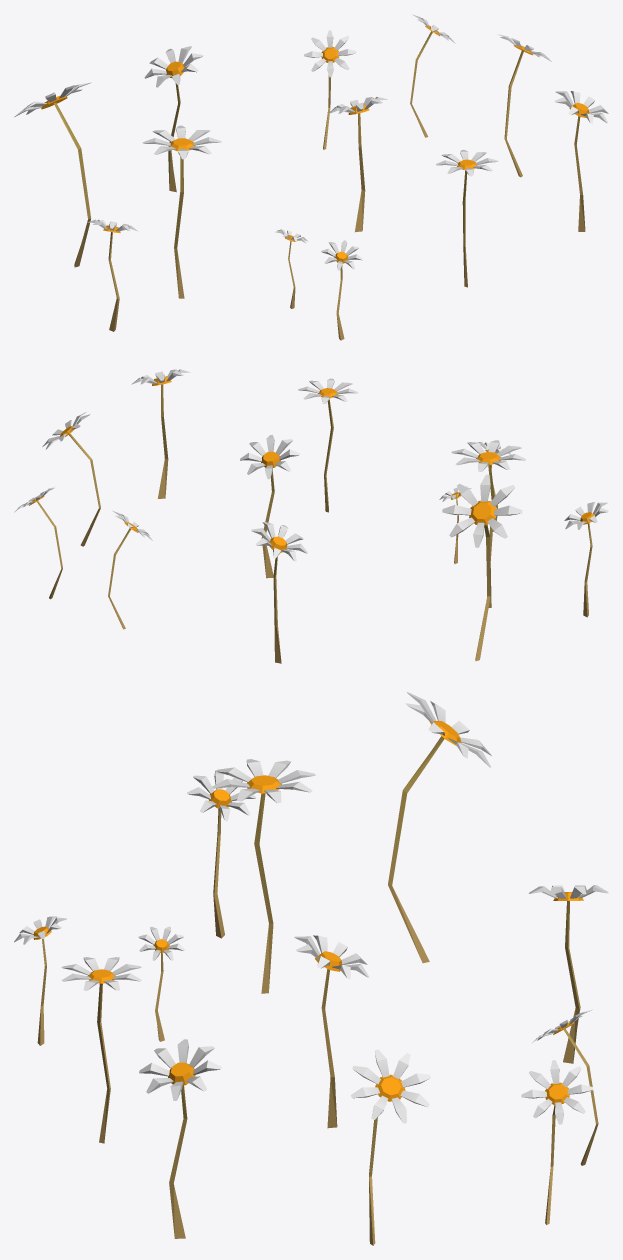
Rendered from flower_daisy.glb.
3 views of the same model, one above another, from view 1: azimuth 30°, elevation 25°; view 2: azimuth 150°, elevation 25°; view 3: azimuth 270°, elevation 25° (orthographic). The views are drawn at different scales.
Parts seen in each view (by area): view 1: Flower 4_4_A; view 2: Flower 4_4_A; view 3: Flower 4_4_A.
Part boxes in pixels (left/top/right/bottom): Flower 4_4_A: left=14, top=14, right=608, bottom=340; Flower 4_4_A: left=14, top=369, right=608, bottom=663; Flower 4_4_A: left=14, top=692, right=608, bottom=1245.
Bounding box in the file's own units: 0.736 × 0.2551 × 0.5398.
1 material, 1 textured.
